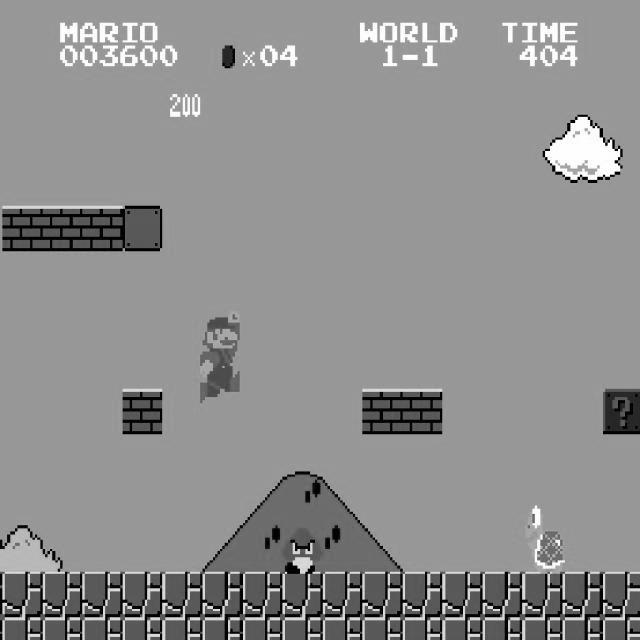0- big_mario: (197, 308, 240, 402)
1- brick_block: (122, 388, 163, 434), (362, 388, 403, 434), (402, 388, 443, 434), (2, 206, 43, 251), (42, 206, 83, 251), (82, 206, 123, 251)
10- koopa: (522, 506, 566, 574)
13- mystery_block: (603, 388, 640, 434)
17- undestructible_block: (2, 572, 43, 618), (42, 572, 83, 618), (82, 572, 123, 618), (122, 572, 163, 618), (162, 572, 203, 618), (202, 572, 243, 618), (242, 572, 283, 618), (282, 572, 323, 618), (322, 572, 363, 618), (362, 572, 403, 618), (402, 572, 443, 618), (442, 572, 483, 618), (482, 572, 523, 618), (522, 572, 563, 618), (562, 572, 603, 618), (603, 572, 640, 618), (2, 617, 43, 640), (42, 617, 83, 640), (82, 617, 123, 640), (122, 617, 163, 640), (162, 617, 203, 640), (202, 617, 243, 640), (242, 617, 283, 640), (282, 617, 323, 640), (322, 617, 363, 640), (362, 617, 403, 640), (402, 617, 443, 640), (442, 617, 483, 640), (482, 617, 523, 640), (522, 617, 563, 640), (562, 617, 603, 640), (603, 617, 640, 640), (0, 571, 2, 617), (0, 617, 2, 639)
3- empty_block: (122, 206, 163, 251)
8- goomba: (280, 526, 323, 574)
